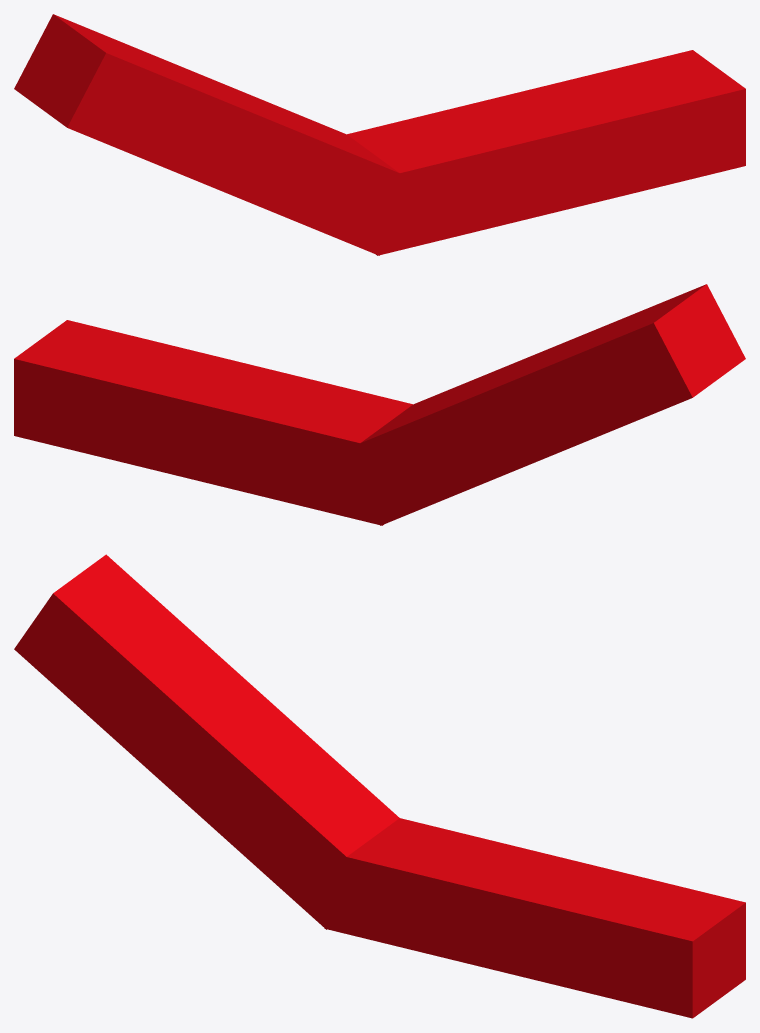
The picture shows the model from 3 angles, top to bottom: view 1: azimuth 30°, elevation 25°; view 2: azimuth 150°, elevation 25°; view 3: azimuth 330°, elevation 25°; orthographic projection.
Parts seen in each view (by area): view 1: tmp_export_Cube.010; view 2: tmp_export_Cube.010; view 3: tmp_export_Cube.010.
Part boxes in pixels (x1,y1,x2,y2): tmp_export_Cube.010: (14, 14, 745, 255); tmp_export_Cube.010: (14, 284, 745, 525); tmp_export_Cube.010: (14, 554, 745, 1018).
Size of the model in its own units: 1.47 by 0.2 by 0.5596.
